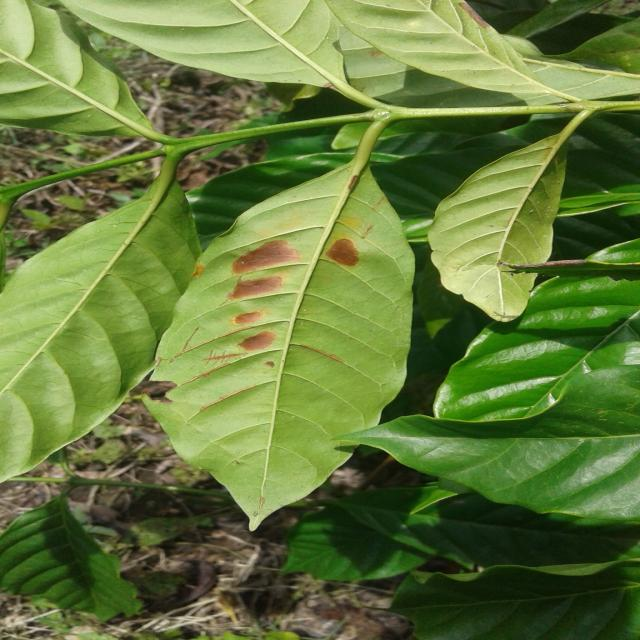Plaga-AranaRoja: (138, 127, 417, 535)
